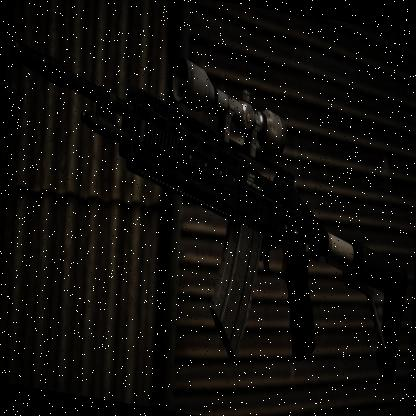rifle: (0, 23, 413, 391)
